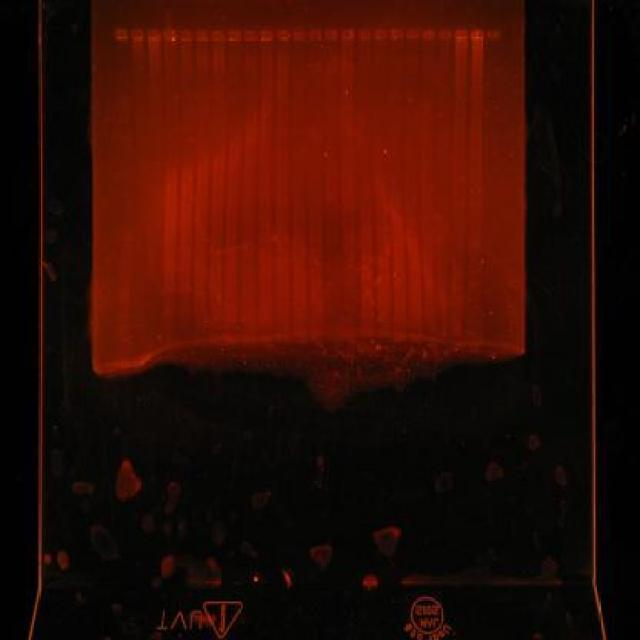L: (110, 24, 508, 46)
M: (112, 92, 134, 325)
P: (118, 192, 134, 200), (116, 312, 132, 320), (117, 293, 131, 301), (118, 170, 134, 176), (119, 234, 133, 240), (117, 257, 131, 263), (118, 137, 132, 143), (118, 108, 130, 112), (118, 104, 130, 108), (116, 102, 130, 105), (118, 122, 130, 125), (118, 117, 130, 120), (118, 112, 130, 115), (116, 98, 130, 100)
Pc: (144, 28, 162, 42), (436, 27, 453, 41), (274, 28, 291, 42), (113, 27, 129, 41), (372, 26, 388, 40), (340, 28, 356, 42), (290, 28, 306, 42), (258, 28, 274, 42), (242, 28, 258, 42), (226, 28, 242, 42), (178, 29, 193, 43), (421, 27, 436, 41), (306, 28, 322, 41), (486, 28, 502, 40), (130, 28, 144, 41), (196, 29, 210, 42), (454, 28, 469, 40), (357, 28, 372, 40), (211, 30, 226, 42), (162, 30, 178, 41), (323, 29, 339, 40), (390, 28, 404, 40), (404, 28, 420, 38), (470, 29, 484, 40)
